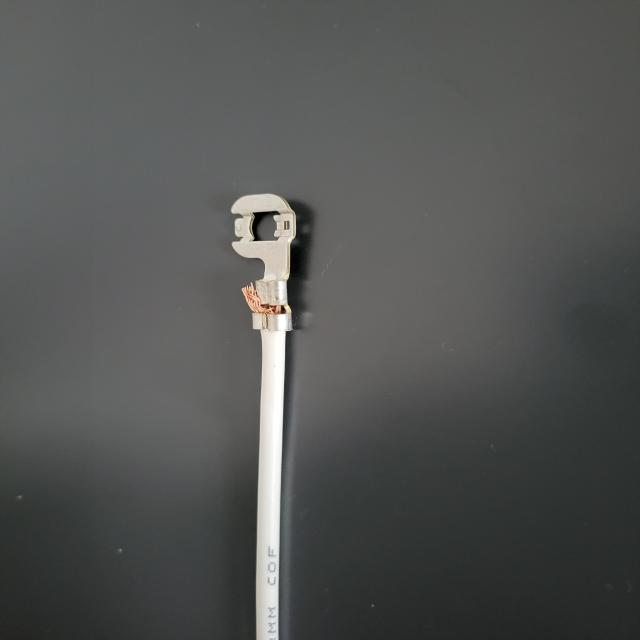defect: (191, 264, 347, 399)
